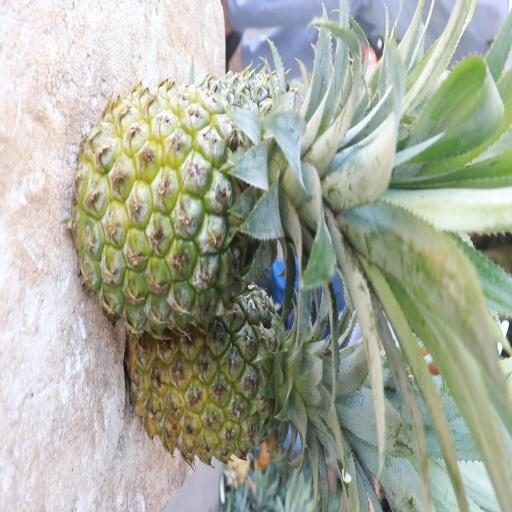------------------------------: (80, 87, 334, 325)
Pineapple - v8 v1: (130, 291, 352, 467)
